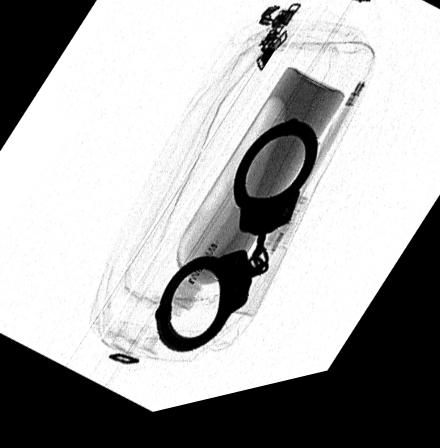HandCuffs: (154, 130, 317, 362)
